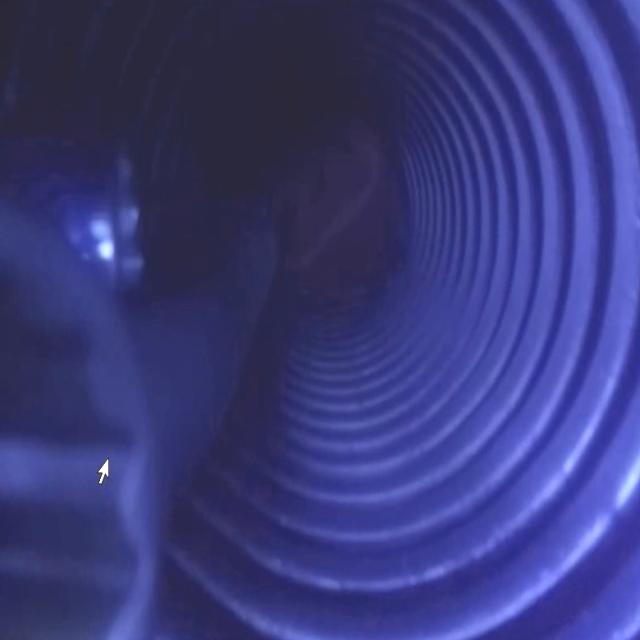metal piece: (0, 176, 194, 640)
